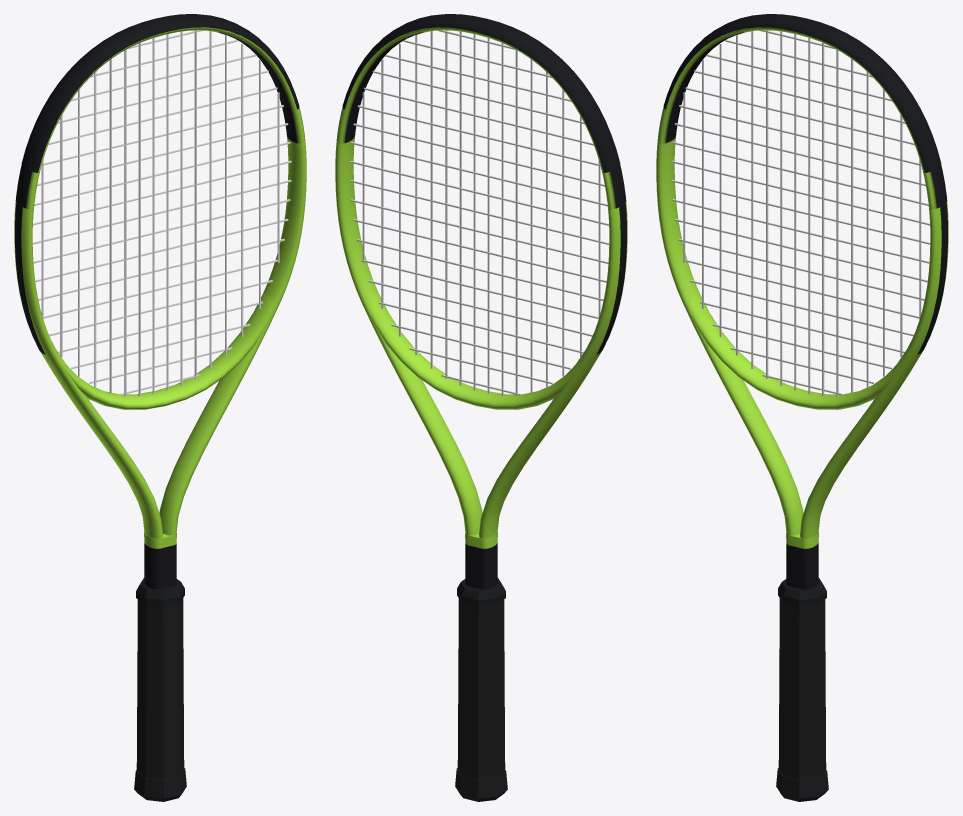
Rendered from head-extreme-pro-2026.glb.
3 renders of one model, left to right at view 1: azimuth 30°, elevation 25°; view 2: azimuth 150°, elevation 25°; view 3: azimuth 330°, elevation 25°, orthographic.
Parts seen in each view (by area): view 1: frame, strings_mains, strings_crosses, grip, bumper, grommets, butt_cap, collar; view 2: frame, strings_mains, strings_crosses, grip, bumper, grommets, butt_cap, collar; view 3: frame, strings_mains, strings_crosses, grip, bumper, grommets, butt_cap, collar.
Part boxes in pixels (x1,y1,x2,y2): frame: [14, 27, 306, 589]; strings_mains: [41, 30, 279, 396]; strings_crosses: [32, 30, 291, 395]; grip: [136, 598, 184, 779]; bumper: [21, 14, 299, 172]; grommets: [15, 166, 45, 354]; butt_cap: [134, 768, 186, 801]; collar: [136, 578, 184, 606]; frame: [335, 27, 627, 589]; strings_mains: [362, 30, 600, 395]; strings_crosses: [350, 30, 609, 395]; grip: [457, 598, 505, 779]; bumper: [342, 14, 620, 172]; grommets: [596, 166, 626, 354]; butt_cap: [455, 768, 507, 801]; collar: [457, 578, 505, 606]; frame: [656, 27, 948, 589]; strings_mains: [683, 30, 921, 396]; strings_crosses: [671, 30, 930, 395]; grip: [778, 598, 826, 779]; bumper: [663, 14, 941, 172]; grommets: [917, 166, 947, 354]; butt_cap: [776, 768, 828, 801]; collar: [778, 578, 826, 606].
Size of the model in its own units: 0.2662 by 0.6861 by 0.0396.
